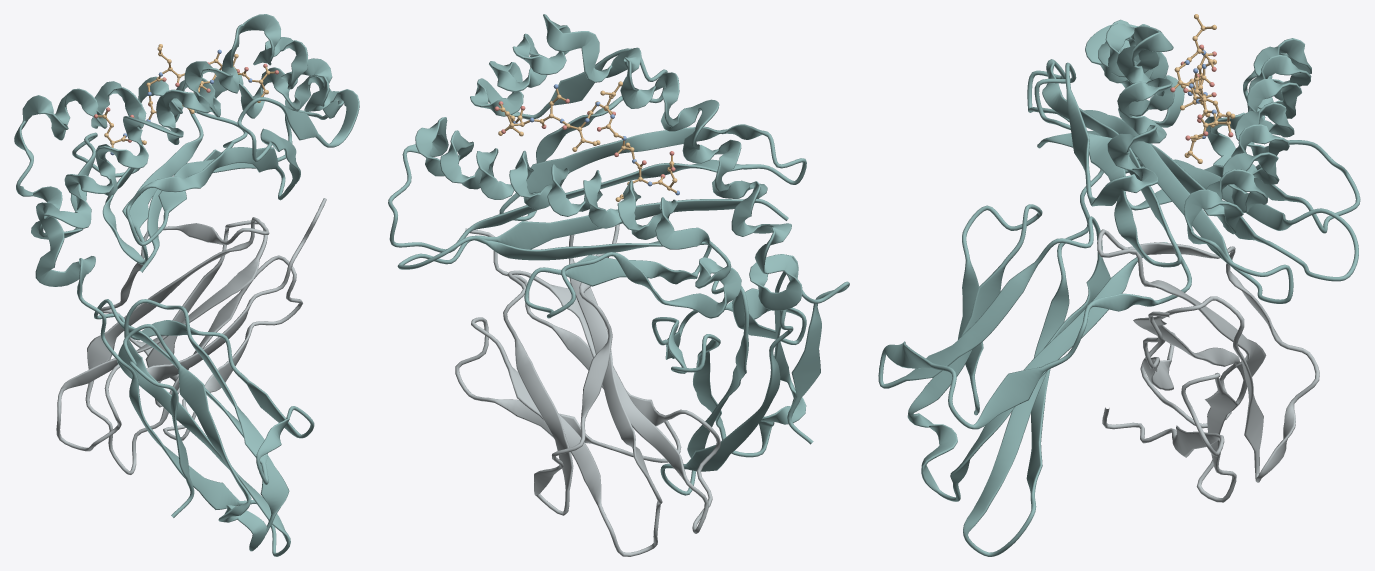
File: pmhc.glb
The picture shows the model from 3 angles, left to right: view 1: azimuth 30°, elevation 25°; view 2: azimuth 150°, elevation 25°; view 3: azimuth 270°, elevation 25°; orthographic projection. The views are drawn at different scales.
Parts seen in each view (by area): view 1: HLA, B2M, Peptide; view 2: HLA, B2M, Peptide; view 3: HLA, B2M, Peptide.
Boxes of the visible parts, x1,y1,x2,y2 form: HLA: (14, 14, 359, 556); B2M: (56, 198, 326, 474); Peptide: (94, 44, 278, 155); HLA: (388, 14, 849, 495); B2M: (455, 224, 720, 556); Peptide: (494, 81, 679, 201); HLA: (878, 19, 1360, 556); B2M: (1097, 229, 1319, 502); Peptide: (1170, 14, 1235, 163).
Bounding box in the file's own units: 1.42 × 1.92 × 1.51.
